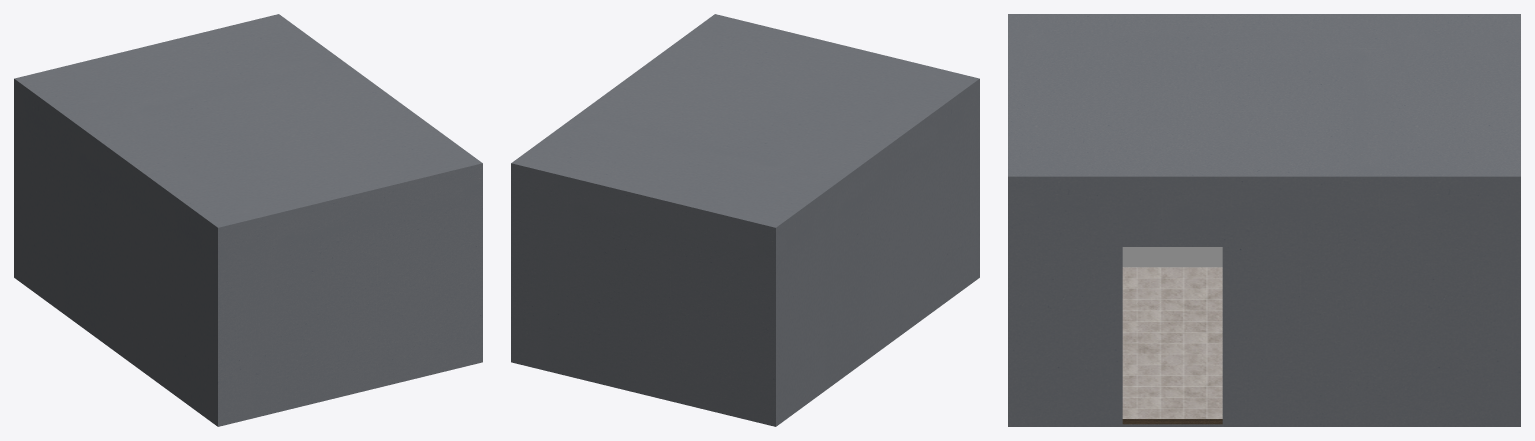
The model's file is Bathroom01.FBX.
3 renders of one model, left to right at view 1: azimuth 30°, elevation 25°; view 2: azimuth 150°, elevation 25°; view 3: azimuth 270°, elevation 25°, orthographic. The views are drawn at different scales.
Visible parts, largest first — view 1: Bathroom01; view 2: Bathroom01; view 3: Bathroom01.
Part boxes in pixels (box(x1,y1,x2,y2)): Bathroom01: box(14, 14, 482, 426); Bathroom01: box(511, 14, 979, 426); Bathroom01: box(1008, 14, 1520, 426).
Size of the model in its own units: 204 by 146 by 272.
